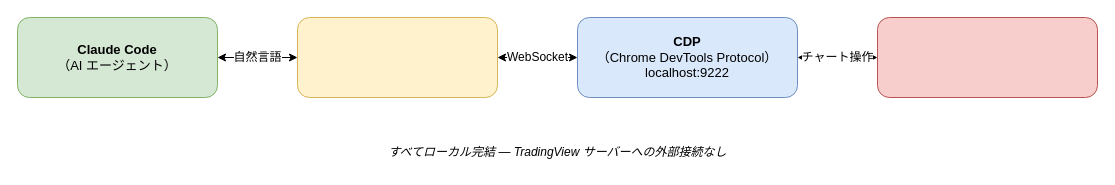
Image size: 1115x185. Some labels were removed from this diagram. Each missing label, with the centre of its shape:
MCP Server （Node.js / stdio） 78 ツール: the point at 397,57
TradingView Desktop （Electron / Chromium）: the point at 987,57
